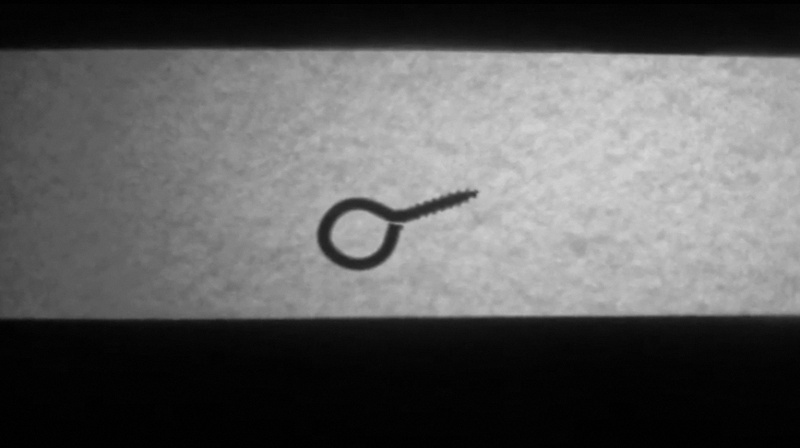O001: (312, 184, 482, 273)
